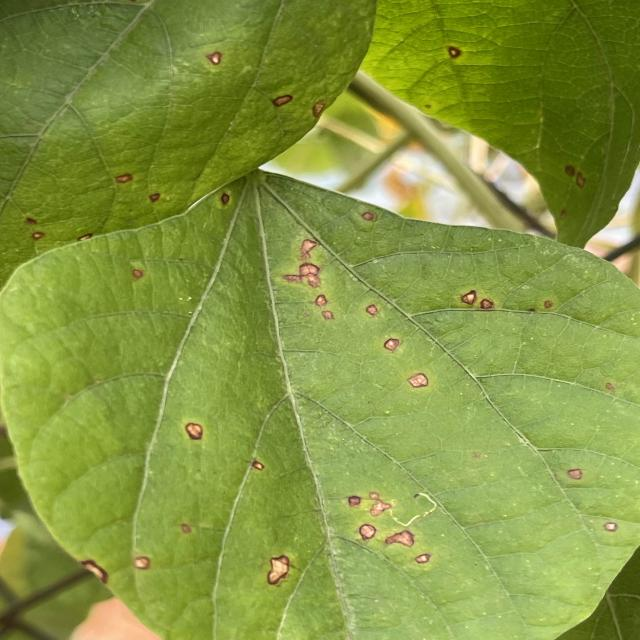Dolicos bean_cercospora leaf spot: (9, 157, 640, 640)
